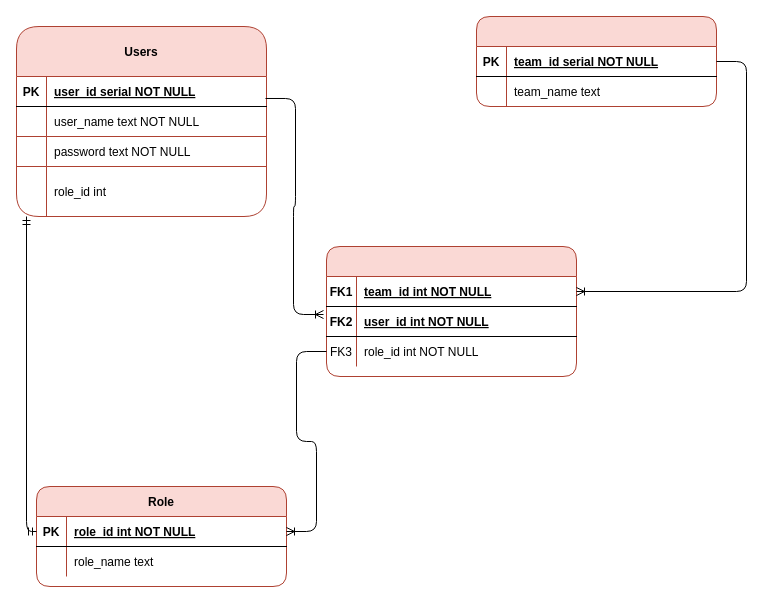
Image size: 763x603. Some labels were removed from this diagram. The box of each missing label's shape, as (x1, y1, x2, y2) in pixels:
Team_Details: (326, 246, 576, 376)
Teams: (476, 16, 716, 106)
